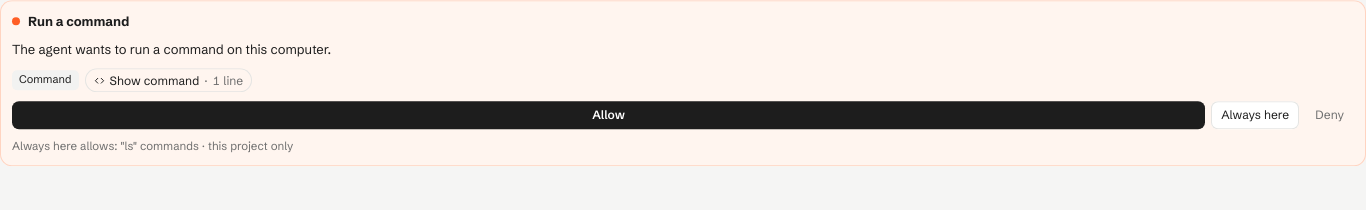
Scenario: approvals, settings and export in English › says when a request was already handled
This screenshot has width=1366, height=210.
Expected: the text "The agent wants to run a command on this computer." is shown, [12, 41, 331, 57]
Click the button "Deny": (1330, 115) [1305, 101, 1354, 129]
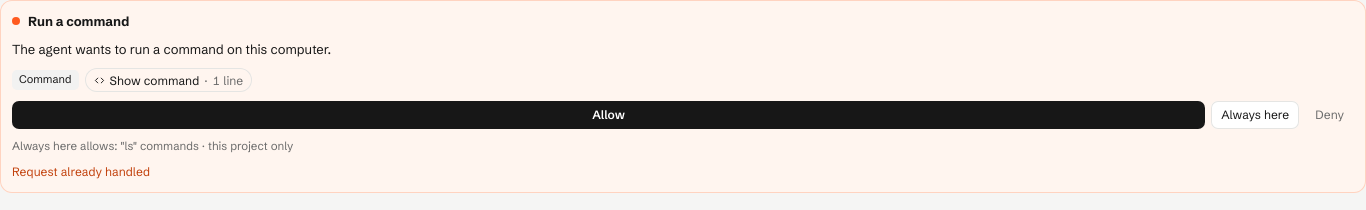
Result: the message reads "Request already handled" at [12, 164, 150, 179]
